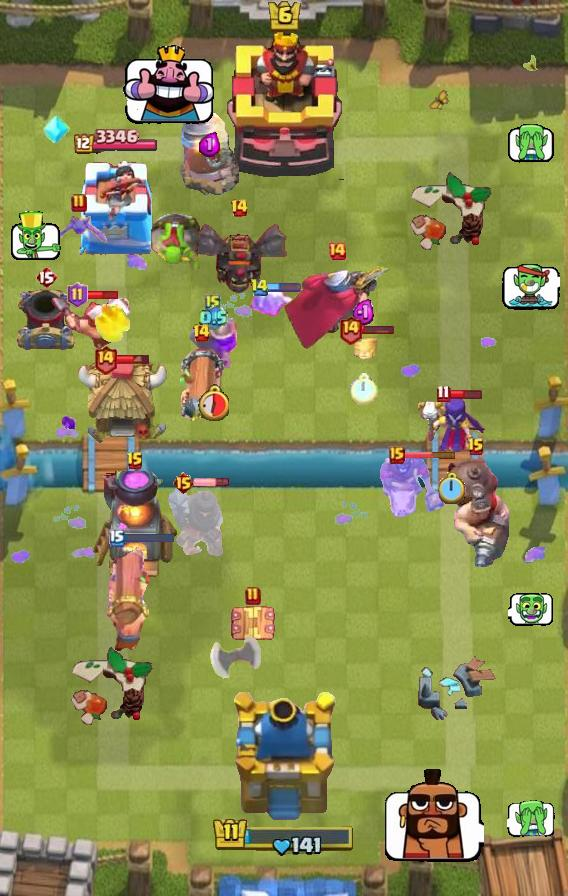archer-evolution: (191, 217, 287, 295)
axe: (418, 394, 486, 456)
bar-level: (150, 212, 204, 274)
barbarian: (50, 214, 108, 248)
battle-healer: (105, 539, 153, 653), (178, 343, 224, 425)
bomb-tower: (191, 314, 238, 374)
clock: (212, 816, 356, 858)
electro-spirit: (200, 305, 229, 331), (352, 298, 376, 325), (199, 131, 220, 156)
elixir: (197, 384, 229, 421), (350, 373, 378, 405), (439, 472, 466, 504)
emote: (123, 531, 175, 544), (403, 449, 457, 458), (84, 289, 119, 301), (116, 353, 151, 365), (449, 388, 484, 400), (193, 476, 230, 487), (266, 283, 302, 294), (360, 325, 396, 336)
freeze: (378, 454, 446, 520)
goblin-brawler: (229, 602, 277, 646)
hunter: (91, 471, 179, 581)
ice-spirit-evolution: (351, 332, 377, 360)
inferno-dragon: (167, 483, 227, 559)
king-tower: (224, 29, 344, 181), (227, 692, 341, 826)
magic-archer: (179, 104, 239, 196)
mighty-miner: (50, 295, 130, 357)
mirror: (245, 284, 295, 322)
musketeer: (15, 286, 77, 354)
pad_2: (42, 112, 70, 146)
prince: (77, 356, 171, 446)
queen-tower: (68, 158, 160, 256)
royal-giant: (210, 637, 262, 697)
selected: (71, 128, 157, 155)
skeleton: (380, 766, 483, 864), (123, 44, 215, 126), (9, 211, 63, 263), (502, 264, 560, 310), (508, 124, 557, 163), (507, 799, 555, 837), (508, 593, 554, 628)
text: (337, 315, 362, 346), (94, 345, 119, 376), (67, 282, 89, 308), (173, 471, 196, 495), (35, 265, 57, 289), (327, 241, 347, 261), (230, 198, 249, 218), (193, 323, 212, 343), (250, 279, 269, 298), (467, 437, 485, 457), (126, 451, 144, 471), (71, 193, 87, 213), (205, 293, 221, 313), (245, 586, 261, 606), (389, 446, 405, 464), (109, 529, 125, 547), (437, 385, 451, 403)
valkyrie: (89, 304, 135, 346)
wall-breaker-evolution: (281, 264, 393, 352)
wizard: (441, 457, 511, 567)
